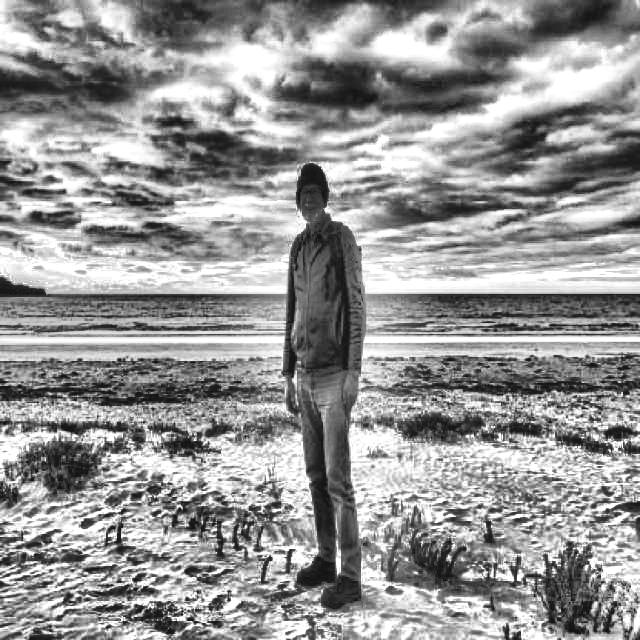happy: (278, 162, 336, 222)
